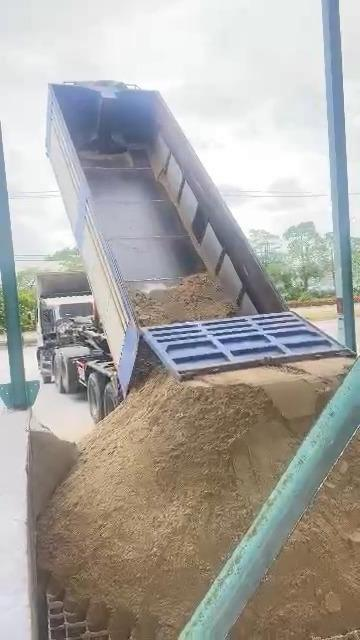sand: (39, 360, 347, 639), (233, 437, 360, 639), (131, 273, 239, 326), (30, 419, 79, 515), (136, 346, 164, 384)
